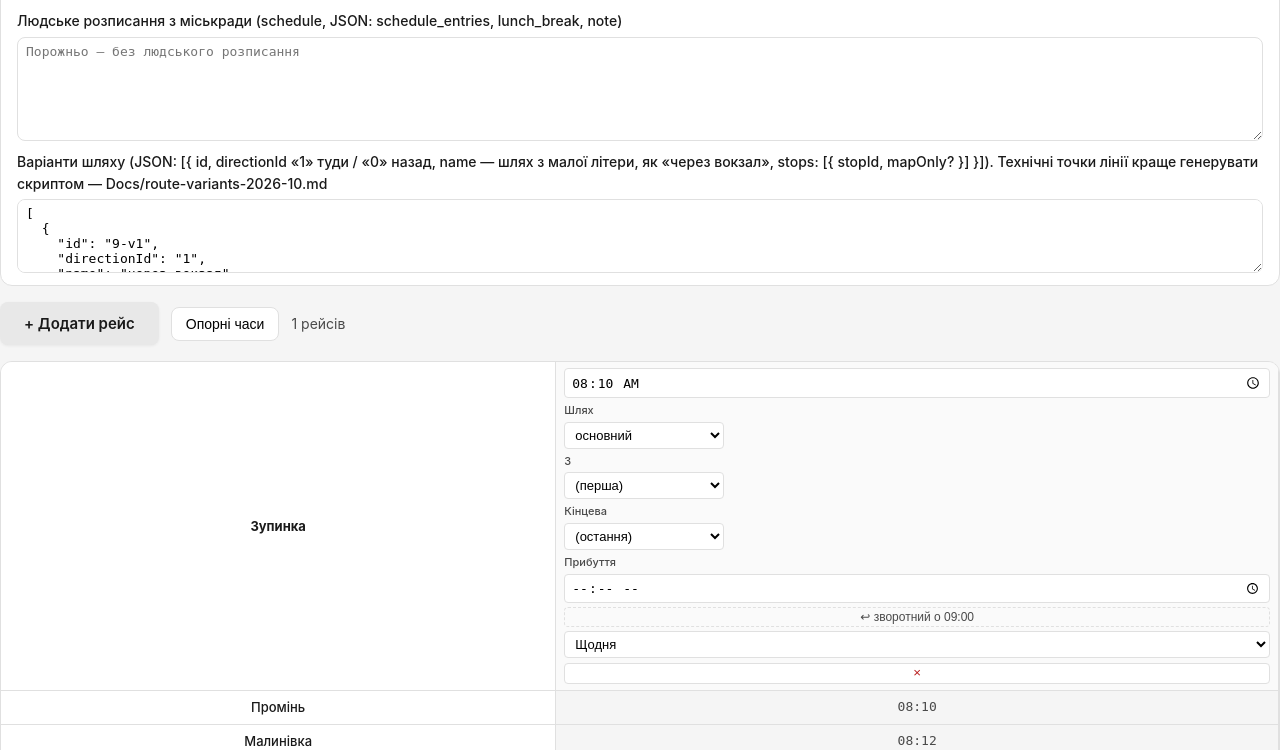
ScheduleEditorTab: route variants › moving a trip to another path switches the grid to it
(page scrolled)
Select "через вокзал" in the dropdown titled "Шлях рейсу: основний ланцюжок напрямку або варіант шляху" at x=644, y=435, box left=564, top=422, right=724, bottom=449
(page scrolled)
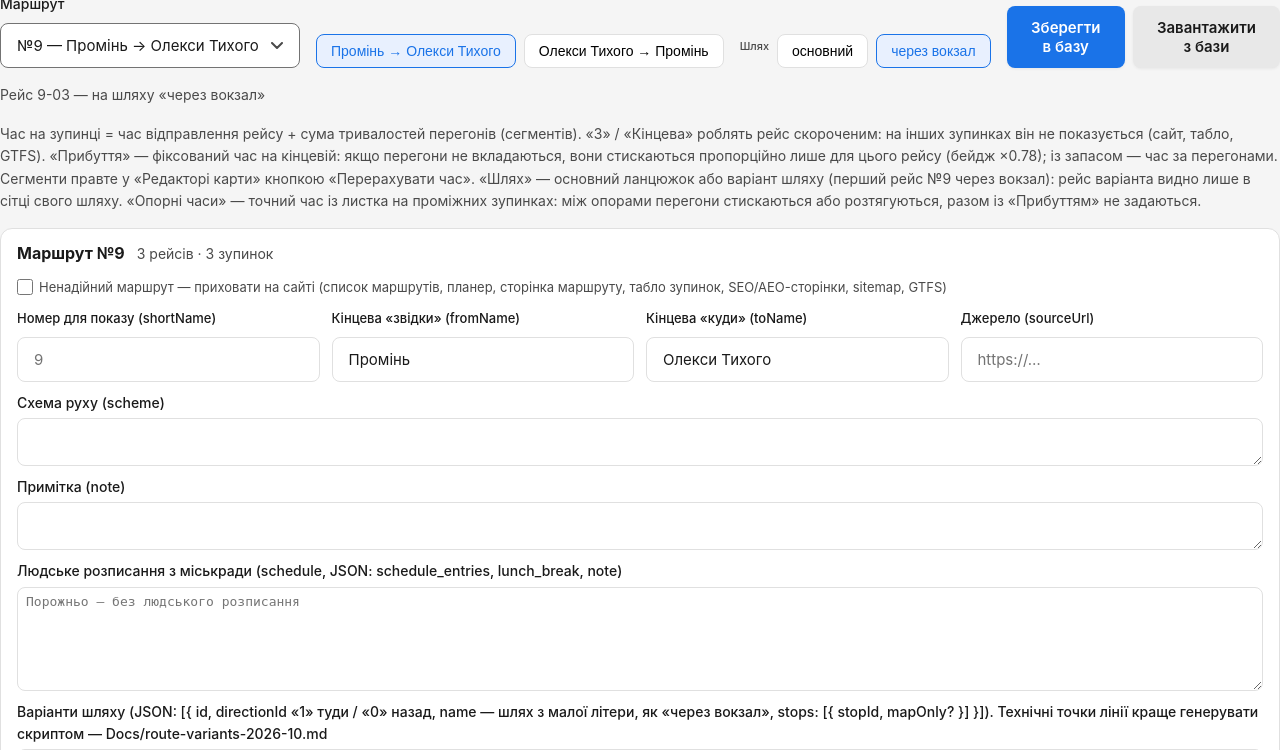
Expected: the text "Рейс 9-03 — на шляху «через вокзал»" is shown, left=0, top=86, right=265, bottom=103
